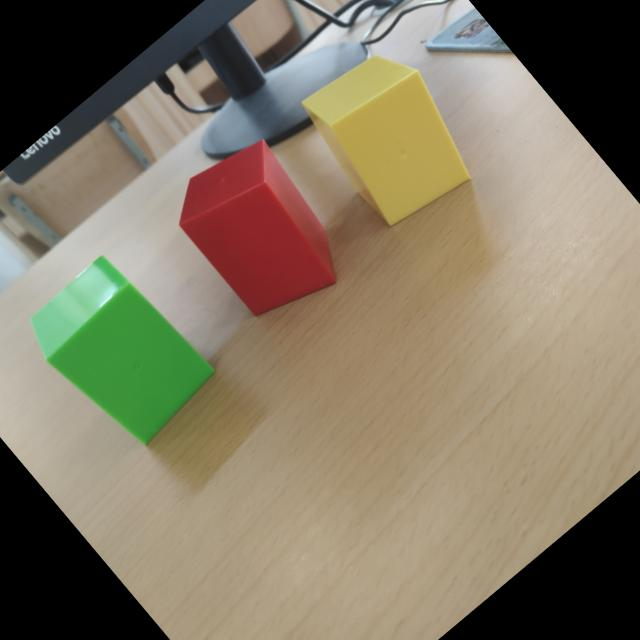green: (31, 255, 215, 445)
red: (178, 140, 337, 317)
yellow: (303, 55, 471, 225)
